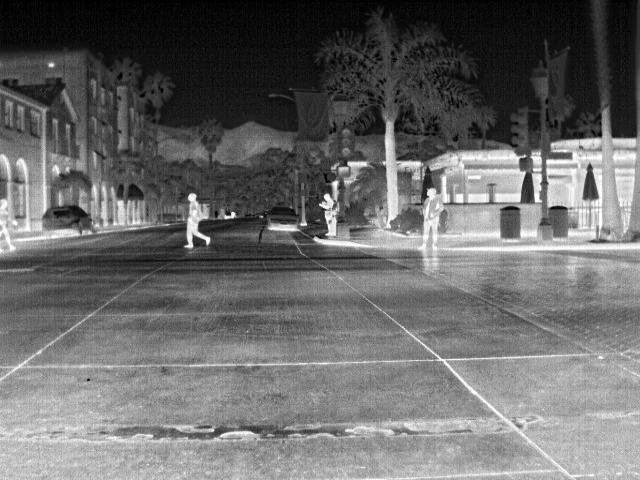car: (40, 204, 96, 237), (265, 204, 298, 232)
person: (415, 186, 445, 250), (179, 190, 210, 248), (317, 193, 338, 237), (0, 198, 15, 248)
